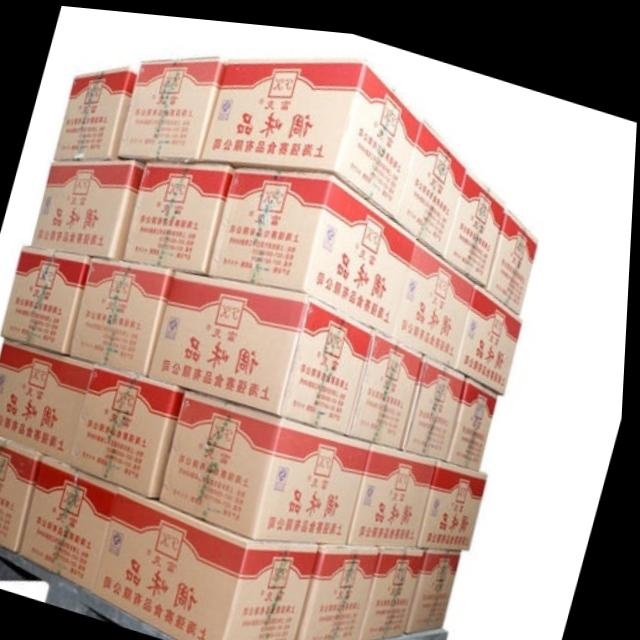box: (149, 267, 377, 427), (96, 481, 322, 640), (202, 51, 423, 211), (208, 163, 418, 330), (163, 385, 374, 536), (75, 363, 188, 496), (25, 453, 122, 592), (125, 157, 238, 271), (72, 254, 179, 373), (0, 338, 98, 463), (31, 155, 146, 260), (116, 51, 228, 156), (393, 231, 478, 361), (396, 110, 471, 248), (4, 244, 96, 354), (352, 433, 441, 538), (353, 322, 426, 441), (303, 535, 384, 640), (443, 155, 508, 279), (54, 65, 137, 160), (458, 274, 527, 384), (405, 347, 470, 452), (364, 537, 430, 635), (424, 451, 492, 540), (486, 199, 542, 305), (0, 436, 49, 552), (451, 368, 503, 460), (410, 539, 466, 624)
